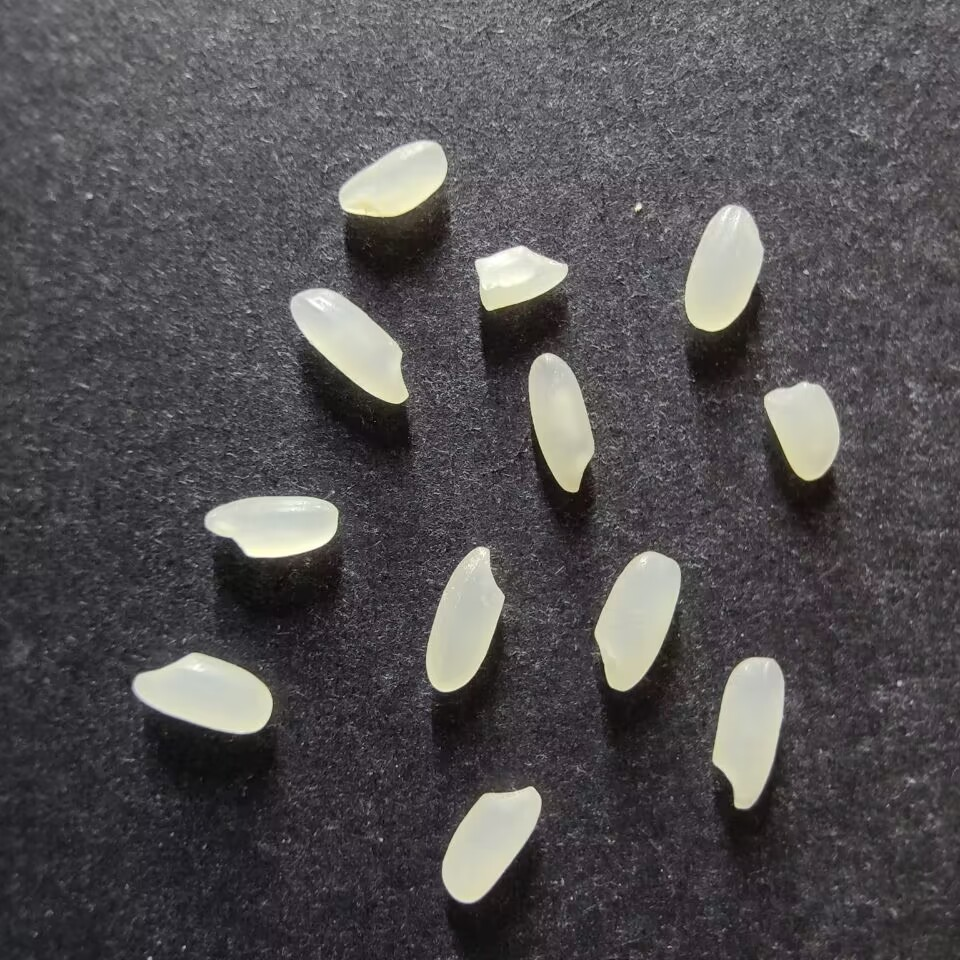broken: (762, 380, 840, 481), (474, 243, 568, 312)
rice: (288, 288, 408, 406), (592, 550, 681, 691), (440, 783, 542, 904), (131, 651, 273, 735), (424, 546, 505, 693), (710, 656, 784, 810), (683, 204, 763, 332), (526, 352, 595, 494), (202, 495, 339, 559), (337, 140, 447, 217)
